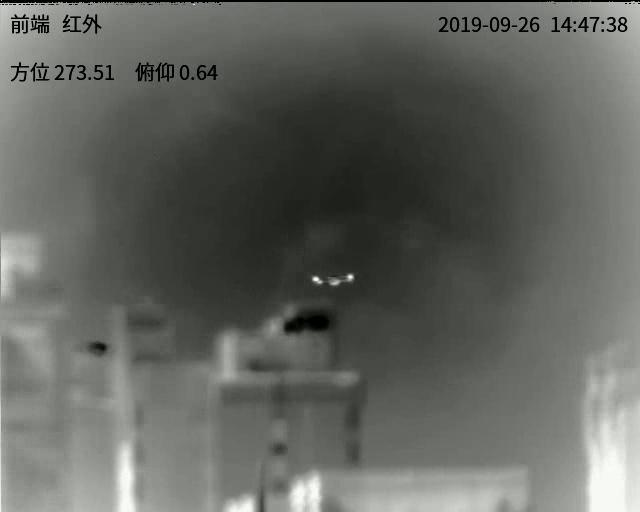DRONE: (310, 271, 355, 286)
